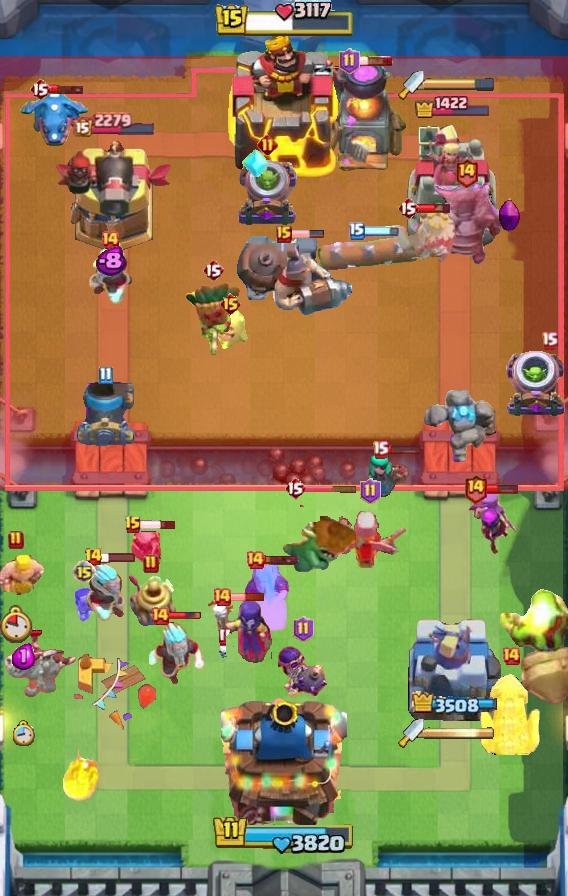bar: (304, 484, 358, 493), (263, 554, 300, 566), (140, 519, 177, 531), (100, 551, 136, 563), (49, 83, 85, 95), (357, 55, 393, 67), (417, 202, 452, 214), (485, 483, 518, 495), (363, 226, 399, 237), (387, 444, 422, 455), (289, 229, 325, 239), (230, 592, 265, 602), (168, 611, 202, 621)
bar-level: (463, 473, 488, 504), (454, 157, 479, 188), (72, 560, 96, 584), (219, 292, 242, 316), (293, 616, 314, 642), (360, 478, 381, 504), (339, 48, 360, 74), (284, 476, 306, 500), (202, 258, 224, 282), (397, 196, 419, 220), (29, 77, 51, 101), (257, 134, 278, 155), (501, 646, 521, 666), (150, 606, 170, 626), (212, 587, 232, 607), (245, 550, 265, 570), (100, 230, 120, 250), (84, 547, 103, 567), (124, 515, 142, 535), (372, 440, 389, 459), (541, 331, 558, 350), (143, 554, 159, 574), (8, 530, 24, 550), (276, 225, 292, 243), (349, 222, 365, 240), (98, 366, 113, 385)
barbarian: (0, 555, 48, 599)
bomber-evolution: (276, 644, 330, 700)
cannoneer-tower: (53, 138, 175, 256)
clock: (0, 605, 33, 643), (12, 720, 35, 746)
dagger-duchess-tower: (406, 122, 500, 256), (405, 611, 501, 731)
dagger-duchess-tower-bar: (424, 77, 496, 91), (424, 726, 494, 740)
dart-goblin: (183, 280, 243, 356)
electro-dragon: (19, 87, 91, 149)
elixir: (95, 246, 126, 277), (12, 643, 35, 670)
evolution-symbol: (498, 199, 520, 233)
golemite: (420, 390, 496, 468)
heal-spirit: (210, 305, 250, 349)
ice-spirit-evolution-symbol: (242, 146, 270, 180)
ice-wizard: (145, 621, 205, 685), (241, 556, 291, 632), (85, 241, 135, 307), (85, 562, 129, 624)
king-tower: (226, 33, 342, 181), (221, 690, 347, 826)
king-tower-bar: (212, 814, 356, 856), (213, 0, 355, 40)
mini-pekka: (128, 528, 164, 572)
mortar: (75, 382, 135, 446)
mortar-evolution: (504, 349, 568, 419), (235, 158, 299, 228)
mother-witch: (467, 488, 519, 558)
rascal-girl: (367, 451, 411, 497)
royal-ghost: (389, 206, 457, 274)
skeleton-evolution: (72, 586, 96, 622)
tesla: (480, 671, 542, 755)
the-log: (313, 235, 419, 273)
tower-bar: (72, 111, 157, 137), (410, 691, 497, 716), (414, 95, 492, 119)
witch: (204, 596, 272, 664)
zappy: (124, 571, 178, 629)
